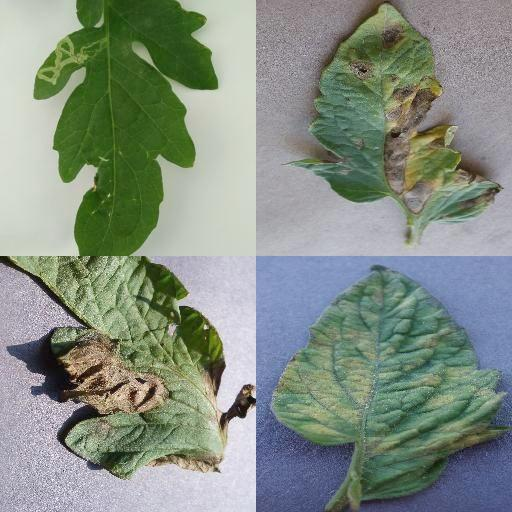Early Blight: (287, 2, 502, 224)
Late Blight: (4, 256, 256, 480)
Leaf Miner: (31, 0, 219, 255)
Leaf Mold: (273, 264, 509, 512)
